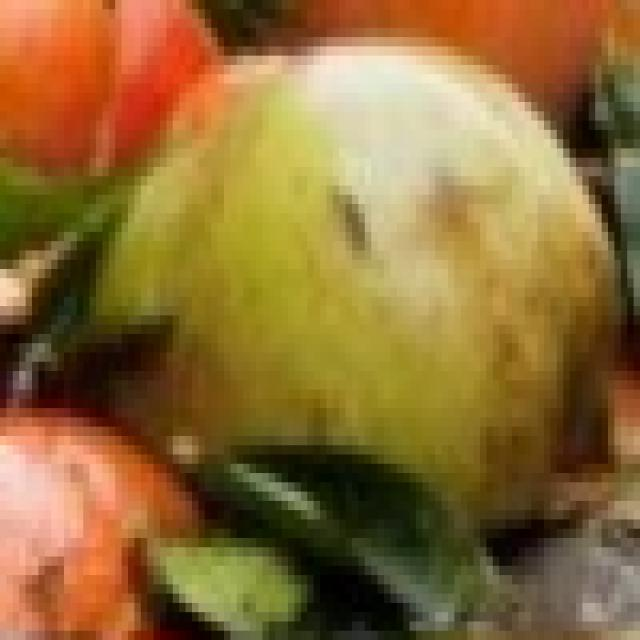food waste: (7, 0, 640, 611)
